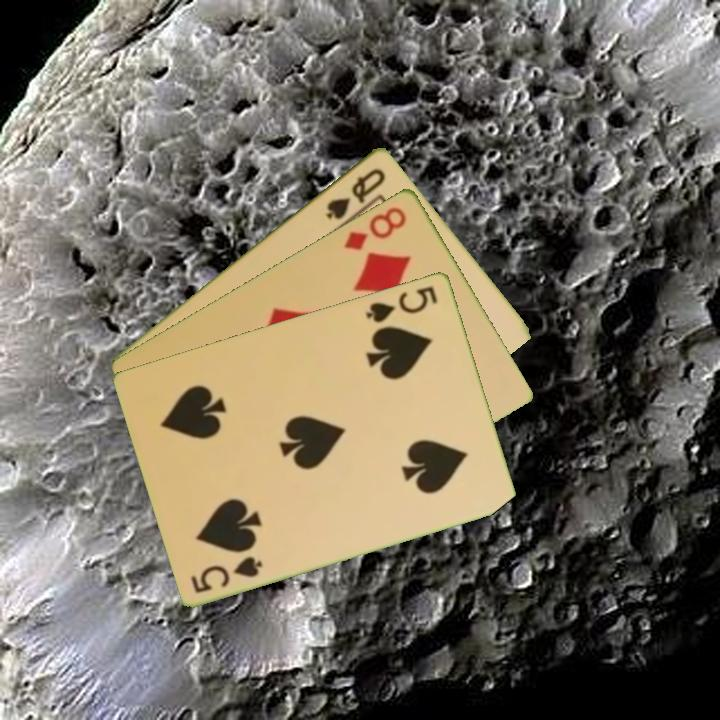5s: (187, 552, 266, 596), (362, 282, 441, 325)
8d: (340, 202, 410, 253)
Qs: (323, 164, 389, 222)
